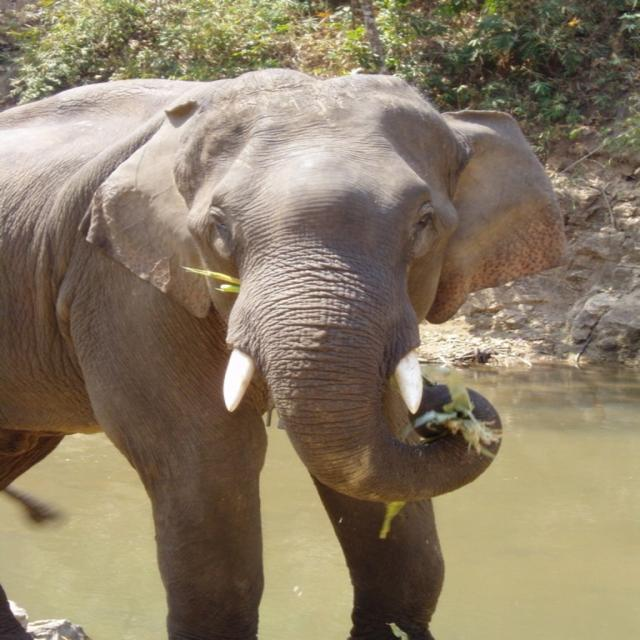elephant: (0, 63, 584, 638)
